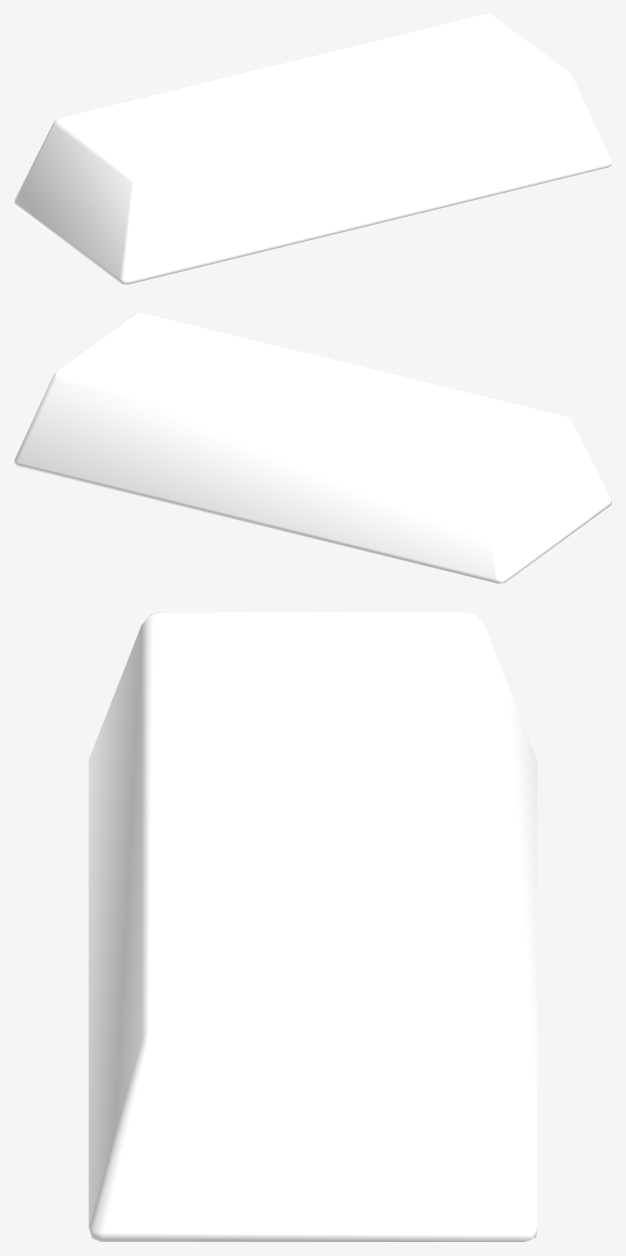
File: 3d257de3-310b-4203-9a39-eeea7c8087bd.glb
3 views of the same model, one above another, from view 1: azimuth 30°, elevation 25°; view 2: azimuth 150°, elevation 25°; view 3: azimuth 270°, elevation 25° (orthographic). The views are drawn at different scales.
Visible parts, largest first — view 1: SingleSilverBar; view 2: SingleSilverBar; view 3: SingleSilverBar.
Boxes of the visible parts, bbox=[...] form: SingleSilverBar: bbox=[14, 14, 611, 284]; SingleSilverBar: bbox=[14, 313, 611, 583]; SingleSilverBar: bbox=[88, 612, 537, 1241].
Bounding box in the file's own units: 0.3718 × 0.0675 × 0.1471.
1 material, 1 textured.
